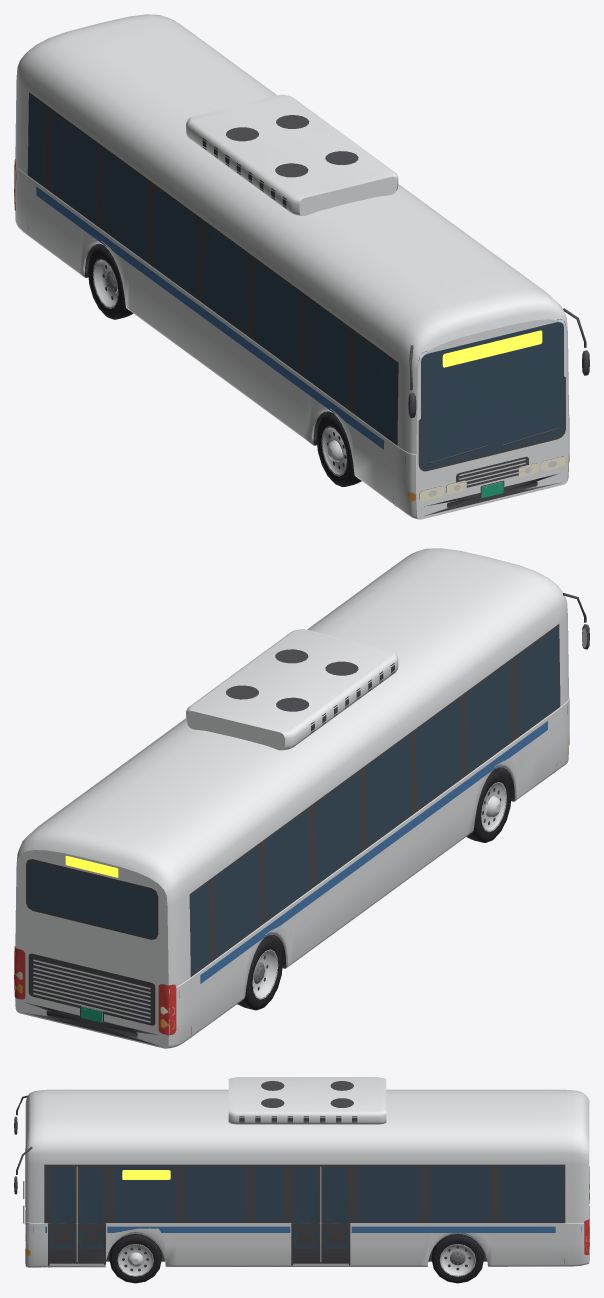
Rendered from 364_close.fbx.
3 renders of one model, top to bottom at view 1: azimuth 30°, elevation 25°; view 2: azimuth 150°, elevation 25°; view 3: azimuth 270°, elevation 25°, orthographic. The views are drawn at different scales.
Parts seen in each view (by area): view 1: 364_close; view 2: 364_close; view 3: 364_close.
Boxes of the visible parts, x1=… form: 364_close: x1=14, y1=14, x2=589, y2=519; 364_close: x1=14, y1=548, x2=589, y2=1048; 364_close: x1=14, y1=1077, x2=589, y2=1283.
Bounding box in the file's own units: 2.73 × 3.33 × 10.73.
